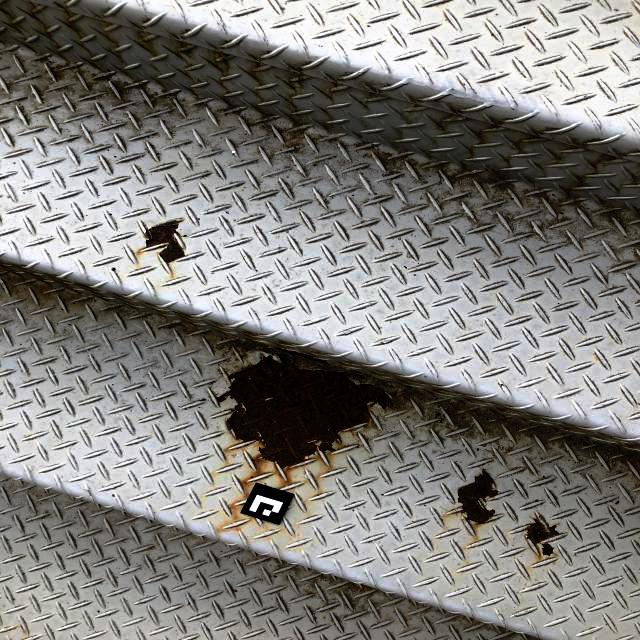Corrosion: (215, 352, 394, 471), (456, 467, 500, 525), (142, 219, 194, 265), (525, 515, 560, 555), (275, 347, 329, 365), (540, 543, 555, 557), (110, 268, 116, 272)
